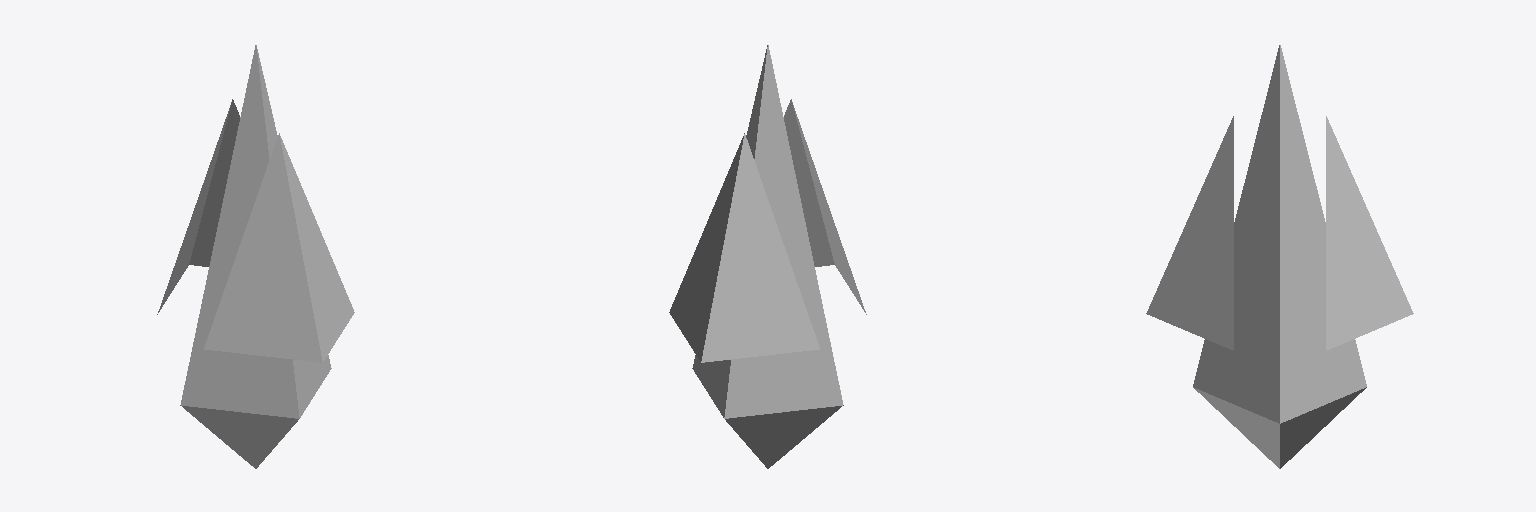
File: keyShards.obj
3 renders of one model, left to right at view 1: azimuth 30°, elevation 25°; view 2: azimuth 150°, elevation 25°; view 3: azimuth 270°, elevation 25°, orthographic.
Parts seen in each view (by area): view 1: BluffKeyShard, BluffKeyShard2 BluffKeyShard, BluffKeyShard BluffKeyShard3; view 2: BluffKeyShard, BluffKeyShard BluffKeyShard3, BluffKeyShard2 BluffKeyShard; view 3: BluffKeyShard, BluffKeyShard2 BluffKeyShard, BluffKeyShard BluffKeyShard3.
Boxes of the visible parts, x1,y1,x2,y2 form: BluffKeyShard: [180, 45, 331, 468]; BluffKeyShard2 BluffKeyShard: [204, 133, 354, 362]; BluffKeyShard BluffKeyShard3: [157, 99, 239, 314]; BluffKeyShard: [692, 45, 843, 468]; BluffKeyShard BluffKeyShard3: [669, 133, 819, 362]; BluffKeyShard2 BluffKeyShard: [784, 99, 866, 314]; BluffKeyShard: [1193, 45, 1366, 468]; BluffKeyShard2 BluffKeyShard: [1146, 116, 1233, 350]; BluffKeyShard BluffKeyShard3: [1326, 116, 1413, 350].
Size of the model in its own units: 0.1129 by 0.3043 by 0.1729.